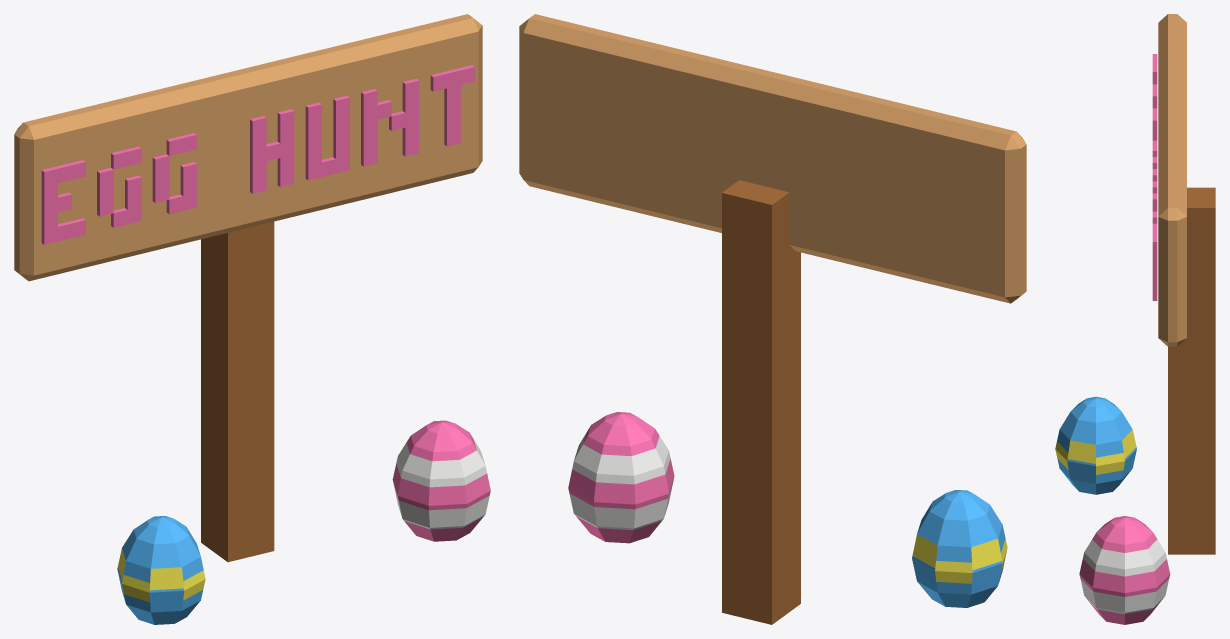
File: EggHuntSign.fbx
The picture shows the model from 3 angles, left to right: view 1: azimuth 30°, elevation 25°; view 2: azimuth 150°, elevation 25°; view 3: azimuth 270°, elevation 25°; orthographic projection. The views are drawn at different scales.
Visible parts, largest first — view 1: EggHuntSign; view 2: EggHuntSign; view 3: EggHuntSign.
Boxes of the visible parts, left/top/right/bottom form: EggHuntSign: left=14, top=14, right=490, bottom=624; EggHuntSign: left=519, top=14, right=1026, bottom=624; EggHuntSign: left=1055, top=14, right=1215, bottom=624.
Bounding box in the file's own units: 5 × 5 × 1.68.
Materials: 1 (1 with a texture image).
